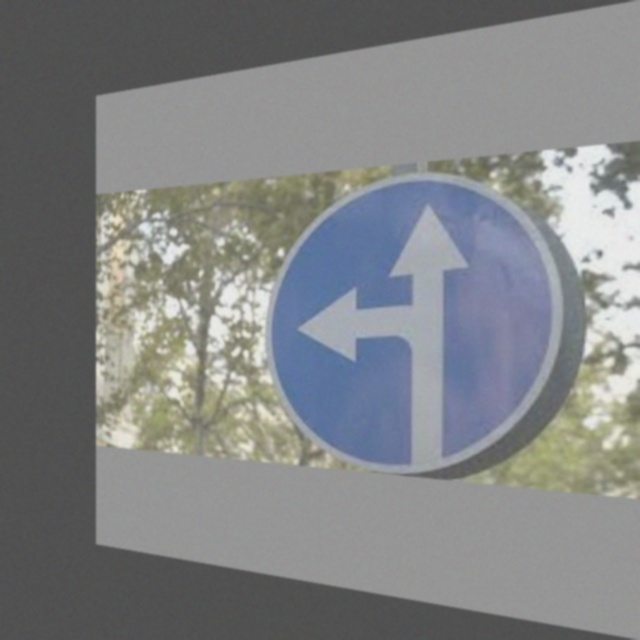Compulsory_Ahead_or_Turn_Left: (271, 177, 576, 473)
